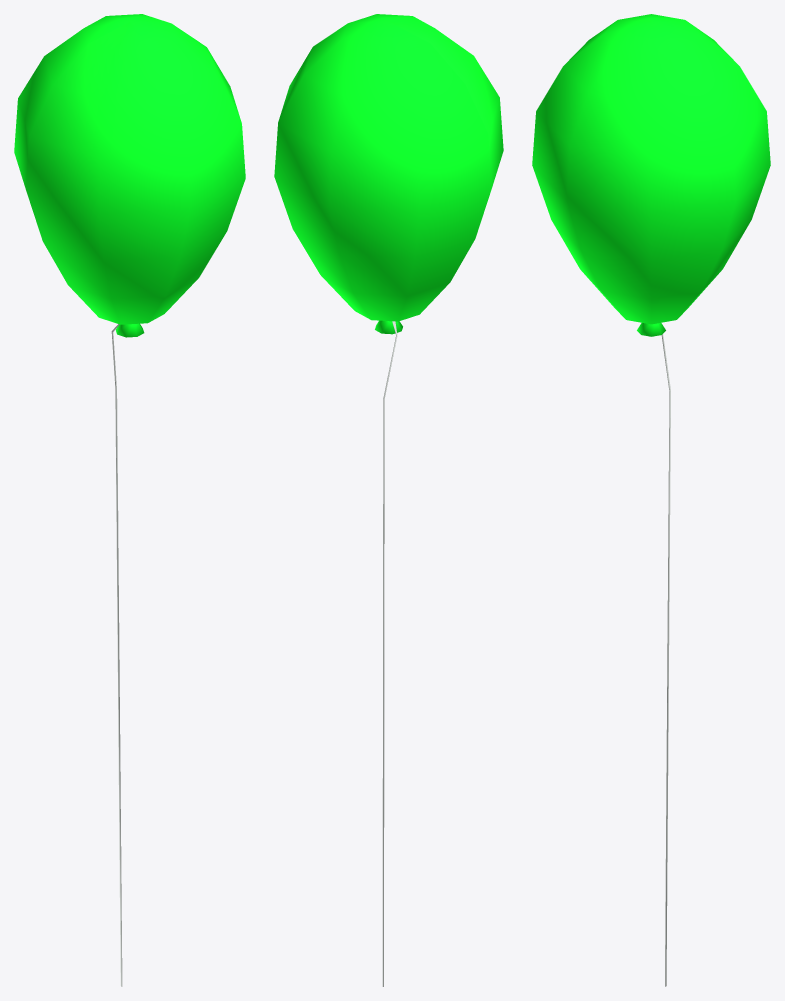
The model's file is BalloonGreen.glb.
The picture shows the model from 3 angles, left to right: view 1: azimuth 30°, elevation 25°; view 2: azimuth 150°, elevation 25°; view 3: azimuth 270°, elevation 25°; orthographic projection.
Visible parts, largest first — view 1: BalloonGreen; view 2: BalloonGreen; view 3: BalloonGreen.
Part boxes in pixels (bbox=[...]): BalloonGreen: bbox=[14, 14, 245, 986]; BalloonGreen: bbox=[274, 14, 503, 986]; BalloonGreen: bbox=[532, 14, 770, 986].
Size of what is drawn, in the model's own units: 0.5007 by 2.23 by 0.5007.
Materials: 1 (1 with a texture image).
